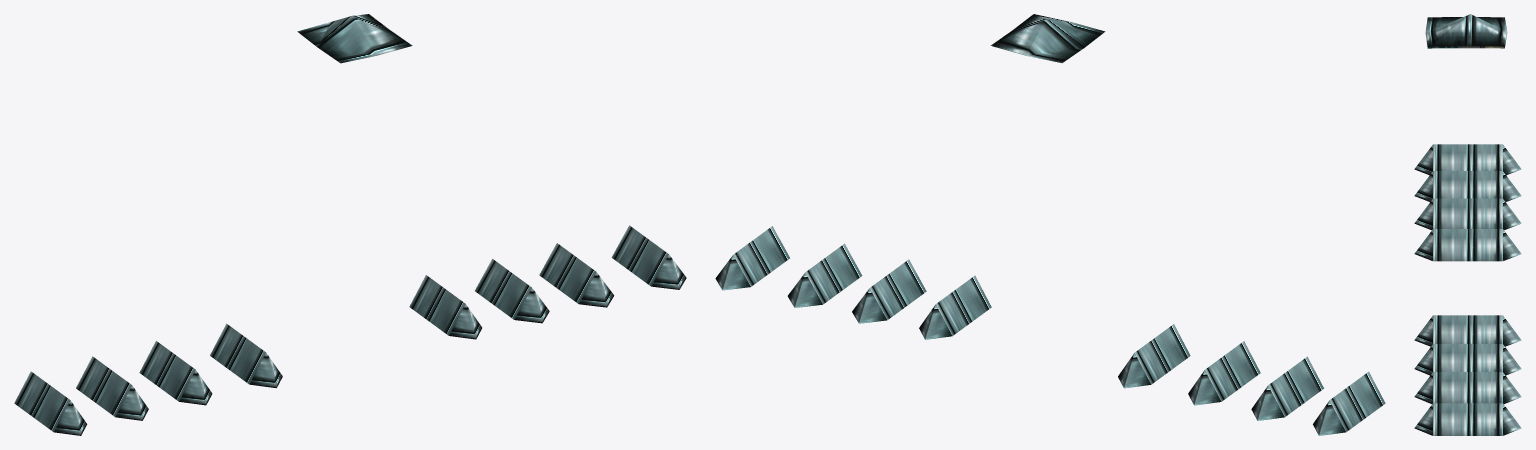
File: Kabel_MastVerstrebt_Zubehör_1552.glb
3 renders of one model, left to right at view 1: azimuth 30°, elevation 25°; view 2: azimuth 150°, elevation 25°; view 3: azimuth 270°, elevation 25°, orthographic. The views are drawn at different scales.
Parts seen in each view (by area): view 1: pPlaneShape44, pCylinderShape70, pCylinderShape69, pCylinderShape71, pCylinderShape72, pCylinderShape76, pCylinderShape73, pCylinderShape74, pCylinderShape75; view 2: pPlaneShape44, pCylinderShape71, pCylinderShape69, pCylinderShape70, pCylinderShape72, pCylinderShape73, pCylinderShape75, pCylinderShape74, pCylinderShape76; view 3: pCylinderShape70, pCylinderShape73, pCylinderShape69, pCylinderShape74, pCylinderShape72, pCylinderShape71, pPlaneShape44, pCylinderShape75, pCylinderShape76.
Boxes of the visible parts, x1,y1,x2,y2 form: pPlaneShape44: [297, 14, 412, 63]; pCylinderShape70: [611, 225, 686, 289]; pCylinderShape69: [539, 243, 614, 307]; pCylinderShape71: [475, 259, 549, 323]; pCylinderShape72: [409, 275, 482, 339]; pCylinderShape76: [14, 371, 87, 435]; pCylinderShape73: [210, 323, 282, 388]; pCylinderShape74: [139, 341, 212, 405]; pCylinderShape75: [76, 356, 148, 420]; pPlaneShape44: [990, 14, 1105, 62]; pCylinderShape71: [852, 259, 926, 323]; pCylinderShape69: [787, 243, 862, 307]; pCylinderShape70: [715, 226, 789, 290]; pCylinderShape72: [919, 275, 991, 339]; pCylinderShape73: [1118, 324, 1190, 388]; pCylinderShape75: [1251, 356, 1323, 420]; pCylinderShape74: [1188, 341, 1260, 405]; pCylinderShape76: [1313, 371, 1385, 435]; pCylinderShape70: [1414, 403, 1521, 435]; pCylinderShape73: [1414, 229, 1521, 261]; pCylinderShape69: [1414, 372, 1521, 403]; pCylinderShape74: [1414, 198, 1521, 230]; pCylinderShape72: [1414, 315, 1521, 346]; pCylinderShape71: [1414, 344, 1521, 375]; pPlaneShape44: [1425, 14, 1507, 48]; pCylinderShape75: [1414, 171, 1521, 201]; pCylinderShape76: [1414, 144, 1521, 175].
Size of the model in its own units: 0.3963 by 0.1932 by 0.0658.
9 materials, 9 textured.
